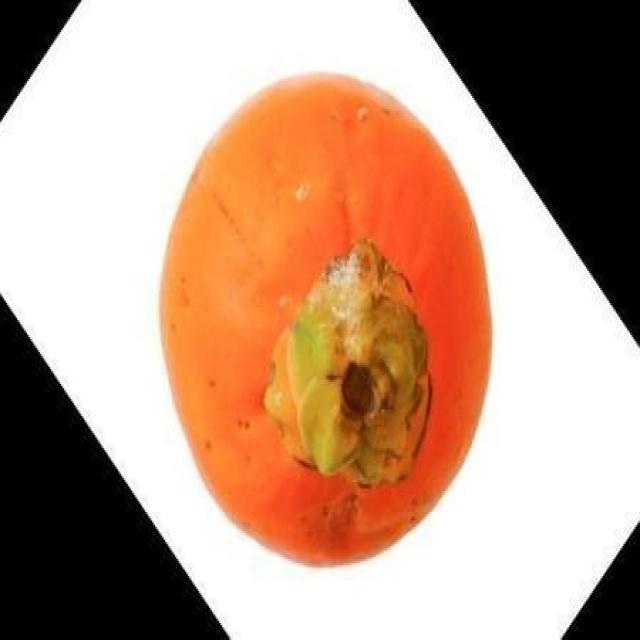good: (154, 70, 495, 572)
